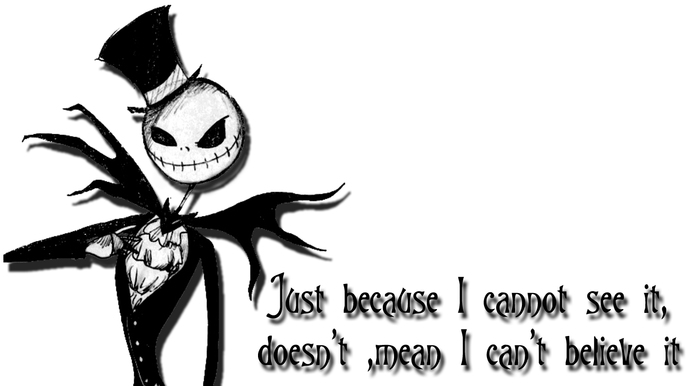Jack Skellington: (3, 4, 347, 386)
